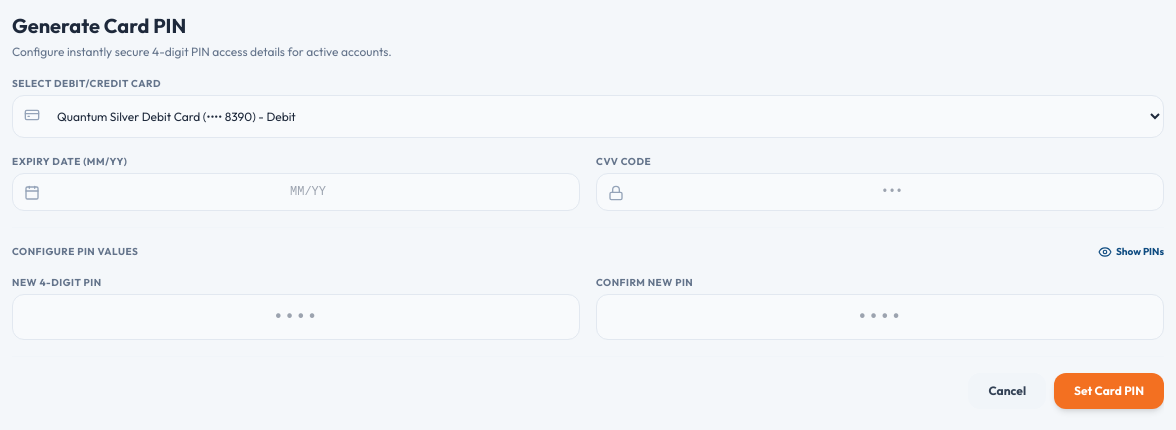
Test: Service Requests Workflows & Modals Integration Tests › should validate matching PIN codes in GenerateCardPinModal
The width and height of the screenshot is (1176, 430).
Check: the heading "Generate Card PIN" is shown, box [12,13,186,38]
Type "12/28" into the field with placeholder "MM/YY" at (296, 192), box [12,173,580,211]
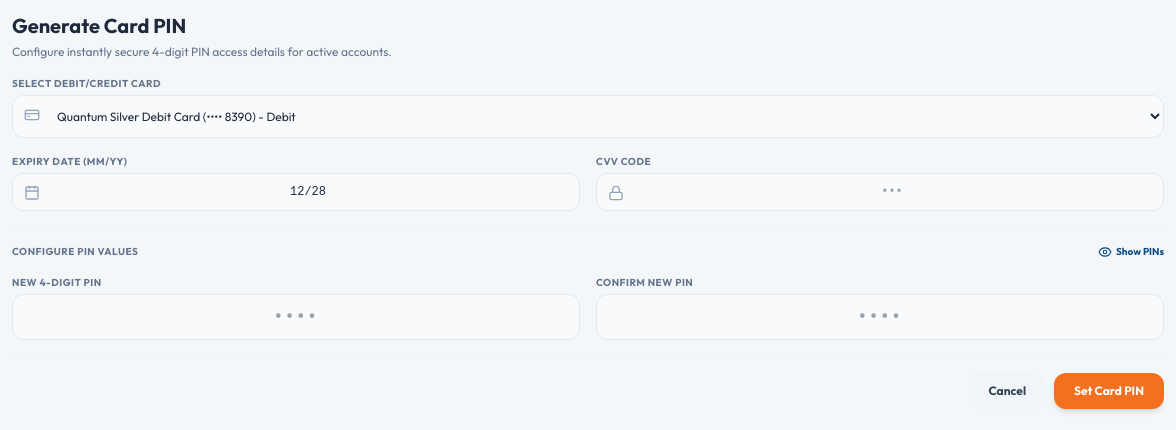
Type "999" into the password field with placeholder "•••" at (880, 192), box [596,173,1164,211]
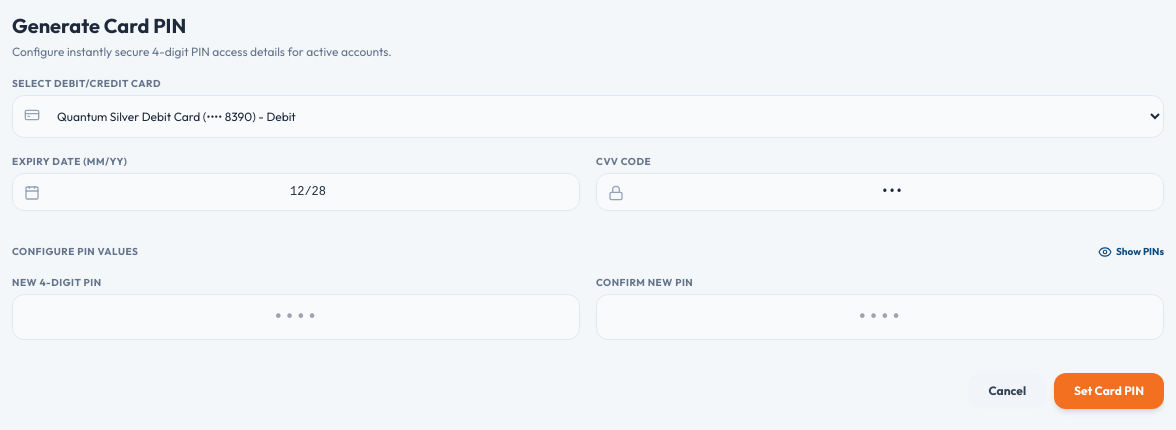
Type "9845" into the password field with placeholder "••••" below "New 4-digit PIN" at (296, 317), box [12,294,580,340]
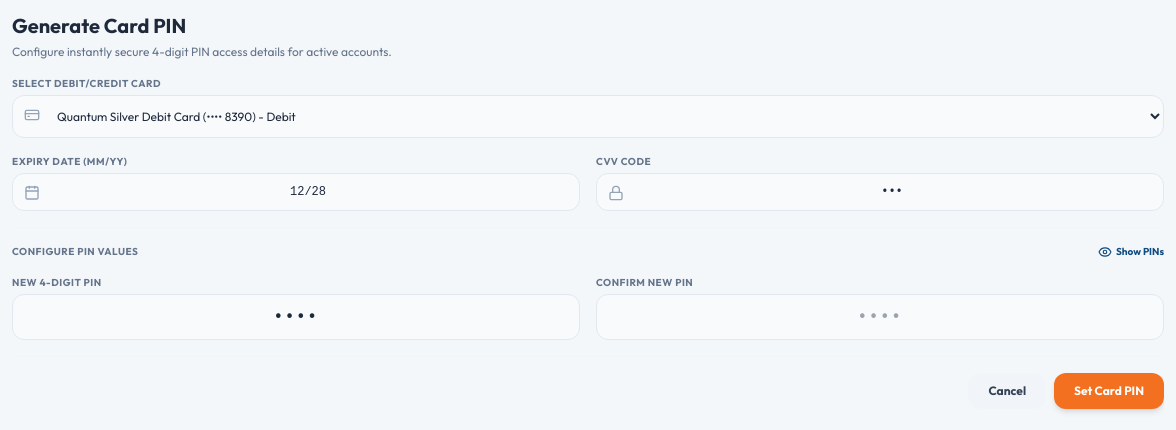
Type "9845" into the password field with placeholder "••••" at (880, 317), box [596,294,1164,340]
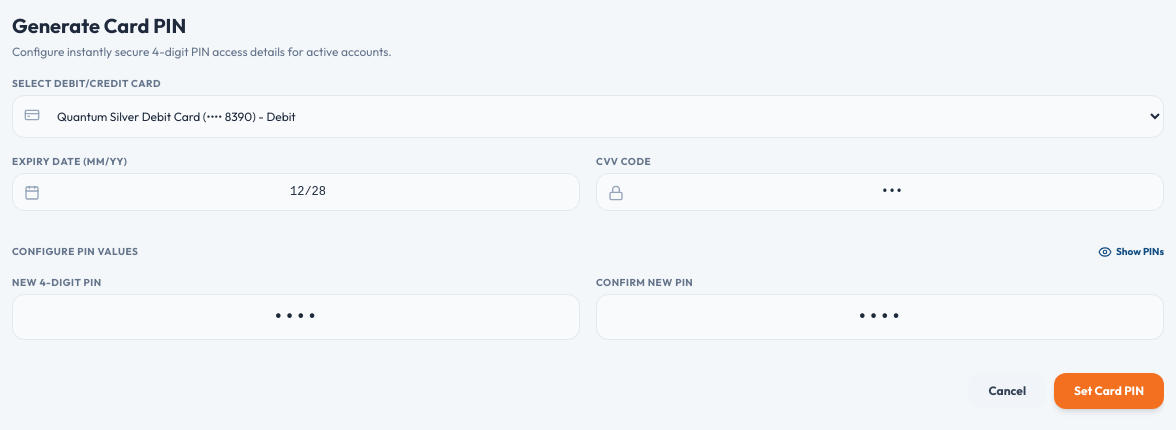
Click the button "Set Card PIN" at (1109, 391), box [1054,373,1164,409]
Wait 1500 ms
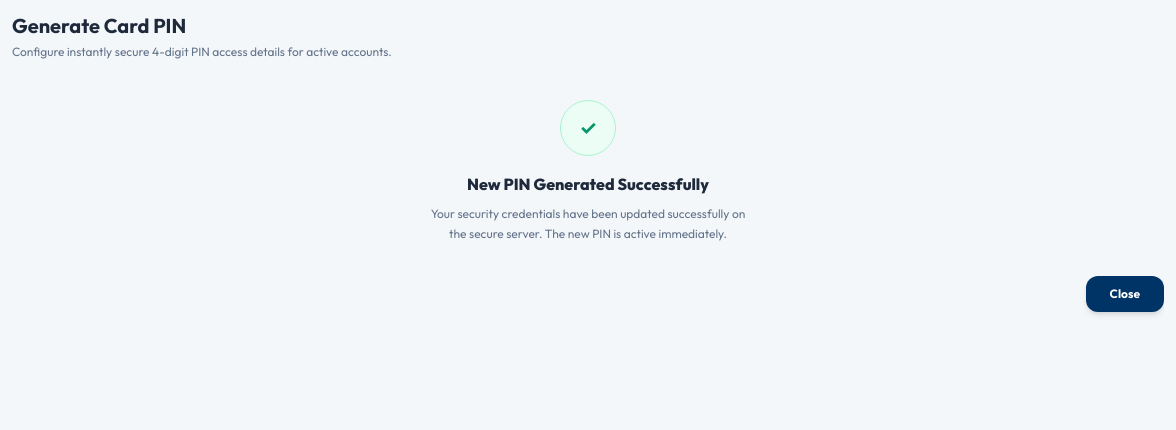
Check: the heading "New PIN Generated Successfully" is shown, box [467,174,709,194]
